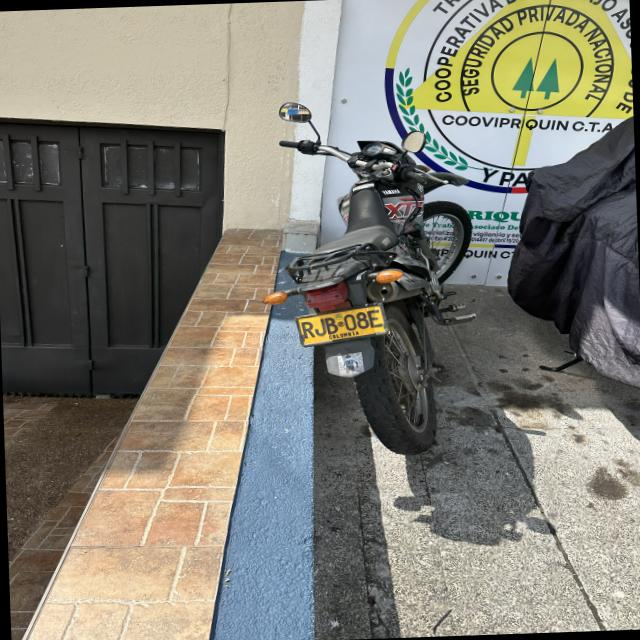number plate: (295, 302, 387, 346)
